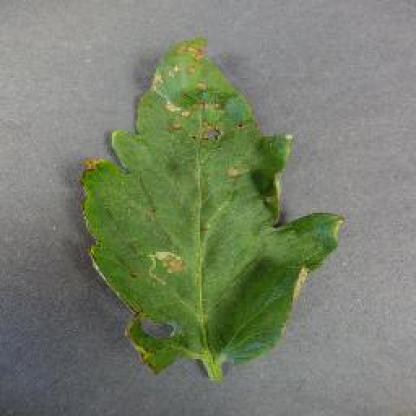bad leaf: (83, 35, 331, 368)
